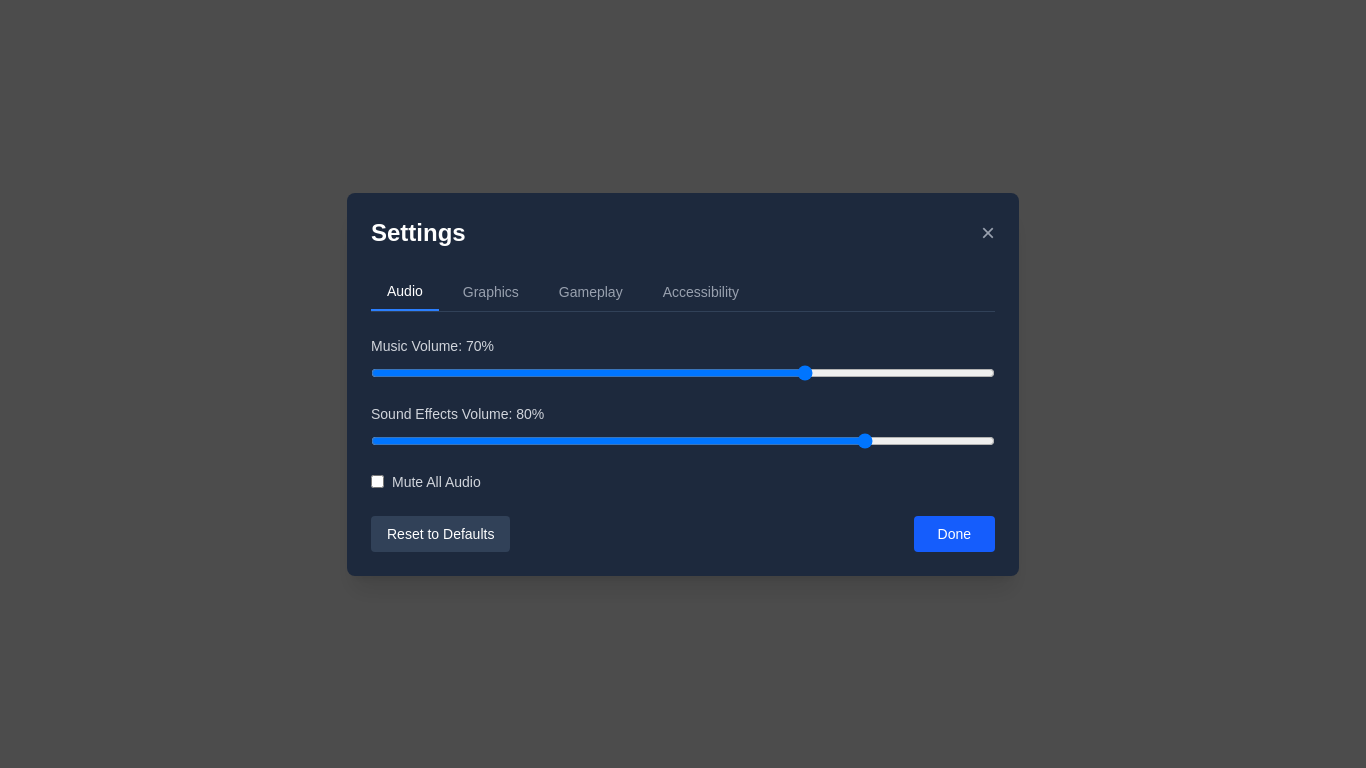
it: SettingsModal › should switch to graphics tab when clicked
The image size is (1366, 768).
Click the button "graphics" at [491, 292], box left=447, top=272, right=535, bottom=310
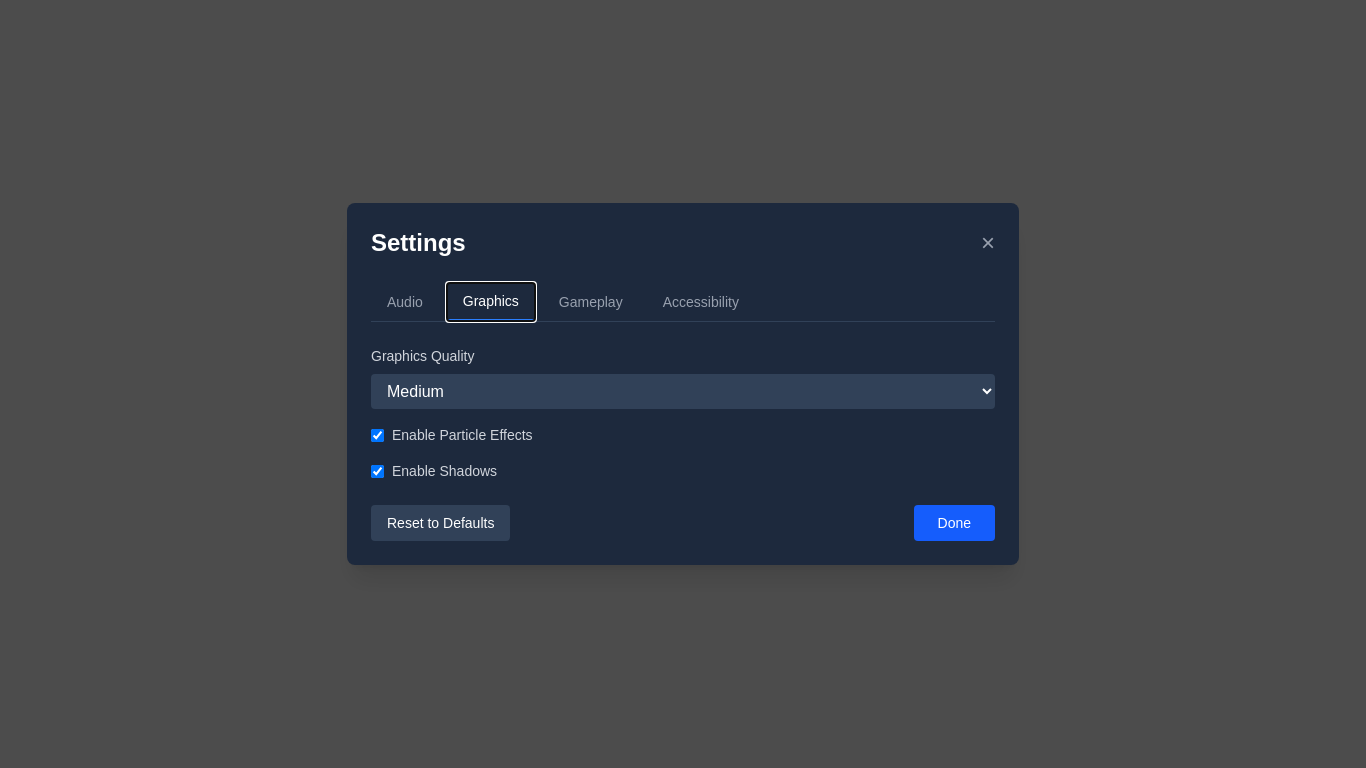
Now the text "Graphics Quality" is shown, box left=371, top=348, right=474, bottom=364
Now the checkbox labelled "Enable Particle Effects" is shown, box left=371, top=428, right=384, bottom=442
